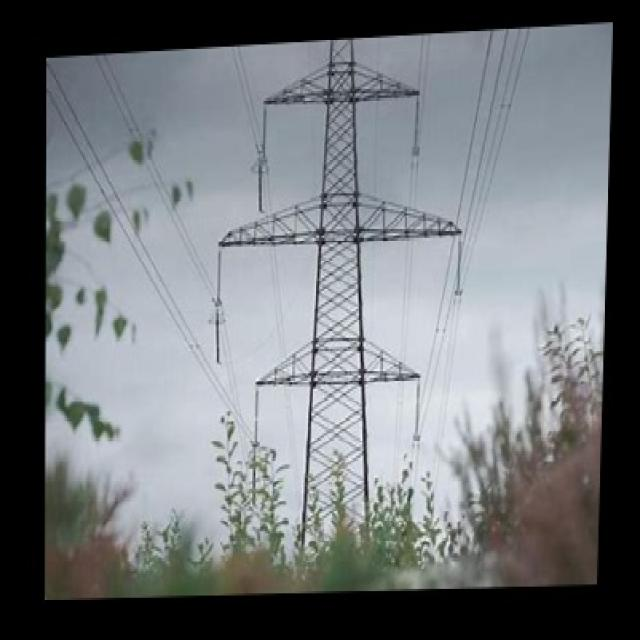utility poles: (204, 388, 498, 586)
